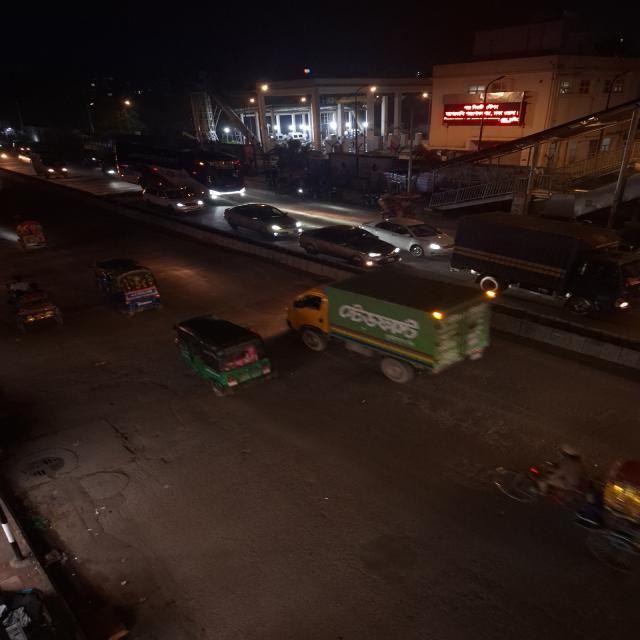bus: (110, 141, 251, 197)
car: (297, 223, 401, 269), (357, 216, 452, 258), (222, 201, 303, 240), (138, 183, 208, 213), (26, 150, 71, 178)
cng: (168, 314, 279, 396)
rickshaw: (88, 256, 174, 319), (1, 276, 68, 334), (10, 218, 56, 255), (375, 192, 423, 220)
truck: (285, 271, 501, 383), (452, 211, 640, 317)
